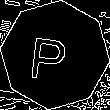P_N: (34, 28, 76, 82)
